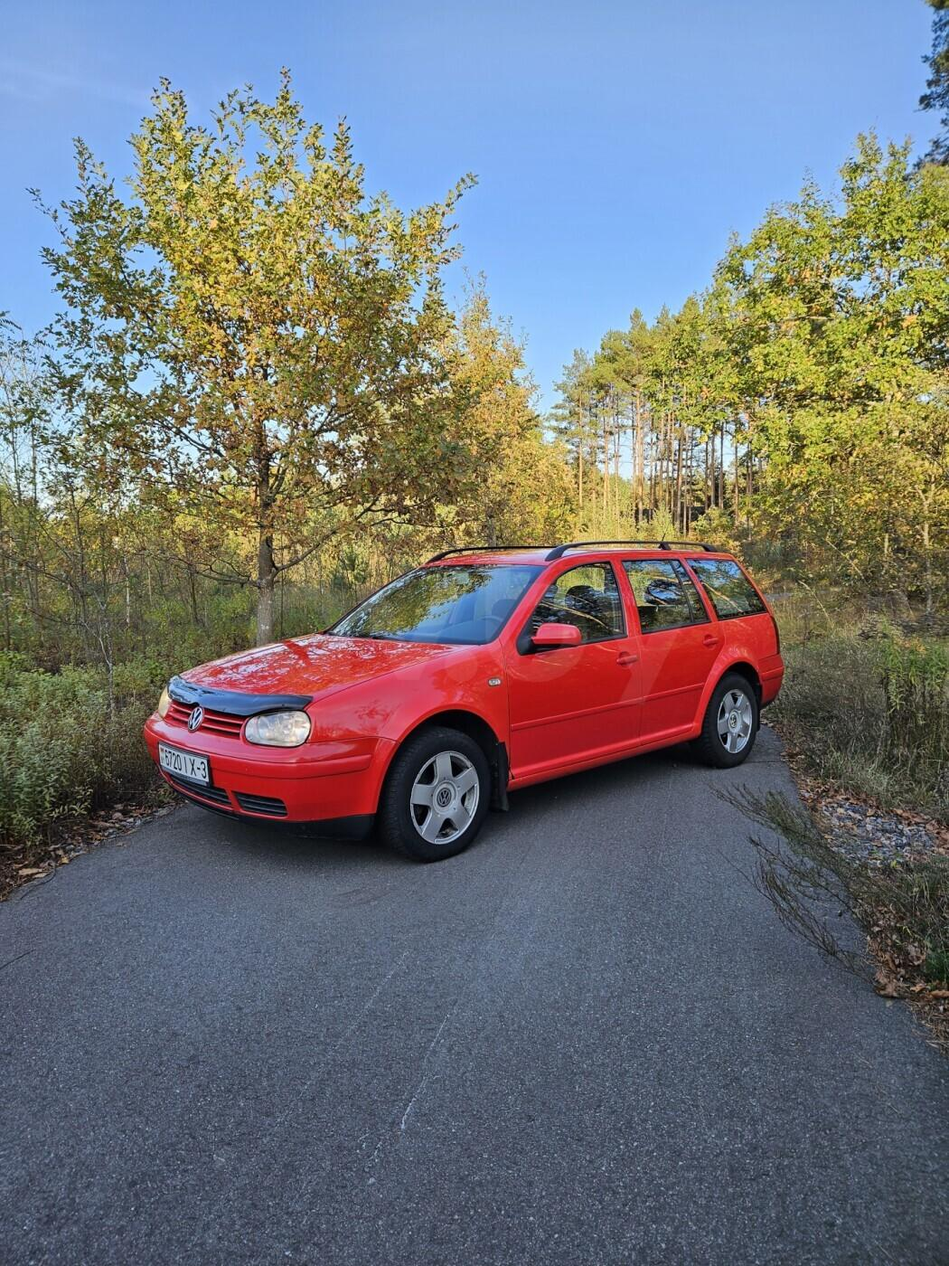Golf_1997-2006: (147, 532, 798, 861)
